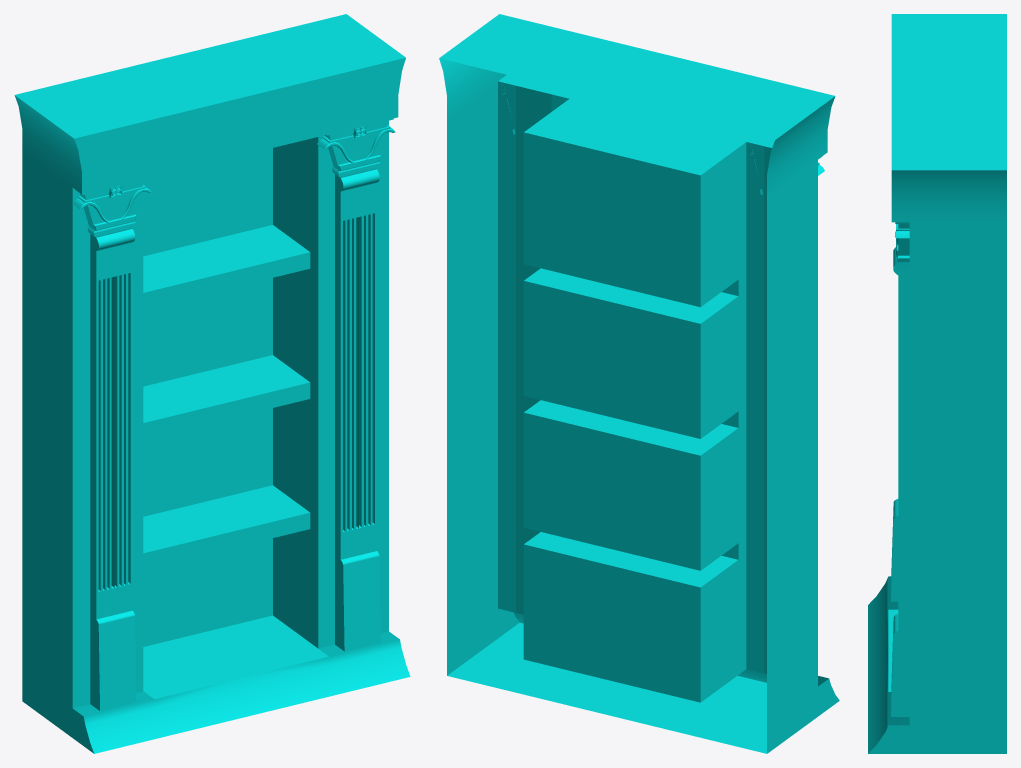
File: bookcase.fbx
The picture shows the model from 3 angles, left to right: view 1: azimuth 30°, elevation 25°; view 2: azimuth 150°, elevation 25°; view 3: azimuth 270°, elevation 25°; orthographic projection. The views are drawn at different scales.
Parts seen in each view (by area): view 1: polySurface7; view 2: polySurface7; view 3: polySurface7.
Boxes of the visible parts, x1,y1,x2,y2 form: polySurface7: (14, 14, 410, 753); polySurface7: (439, 14, 839, 753); polySurface7: (868, 14, 1006, 753).
Size of the model in its own units: 50.68 by 88.72 by 19.02.
